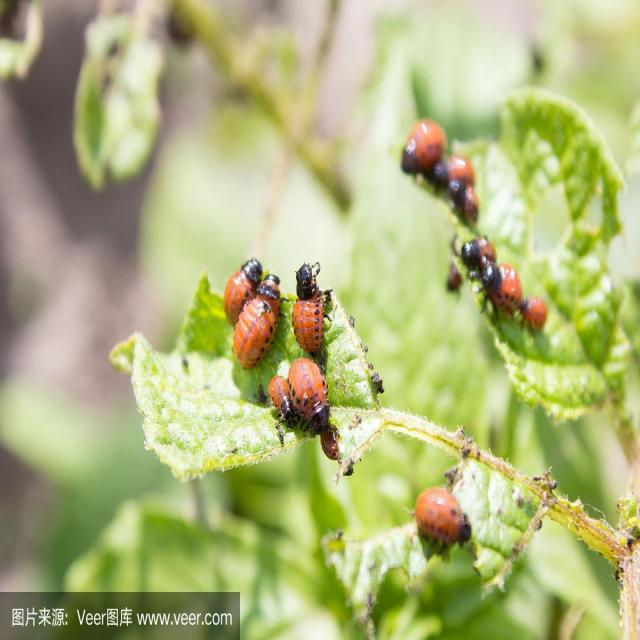ShuCaiHuaBanChong-Larva-: (236, 270, 290, 365), (284, 258, 332, 352), (284, 352, 339, 426), (414, 490, 474, 550), (221, 258, 262, 320), (481, 263, 524, 320)
